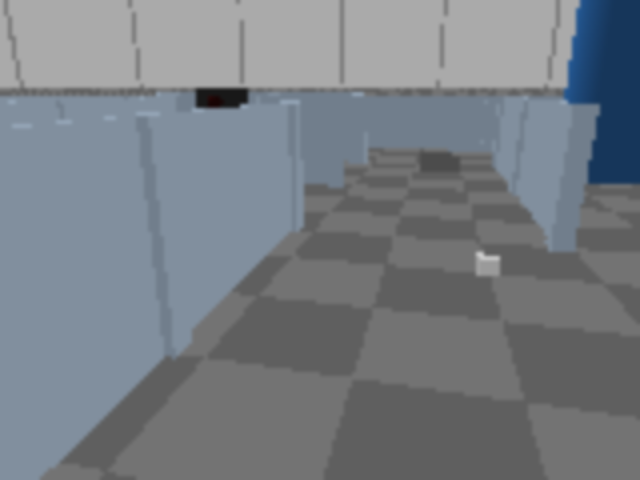puck: (475, 254, 500, 277)
